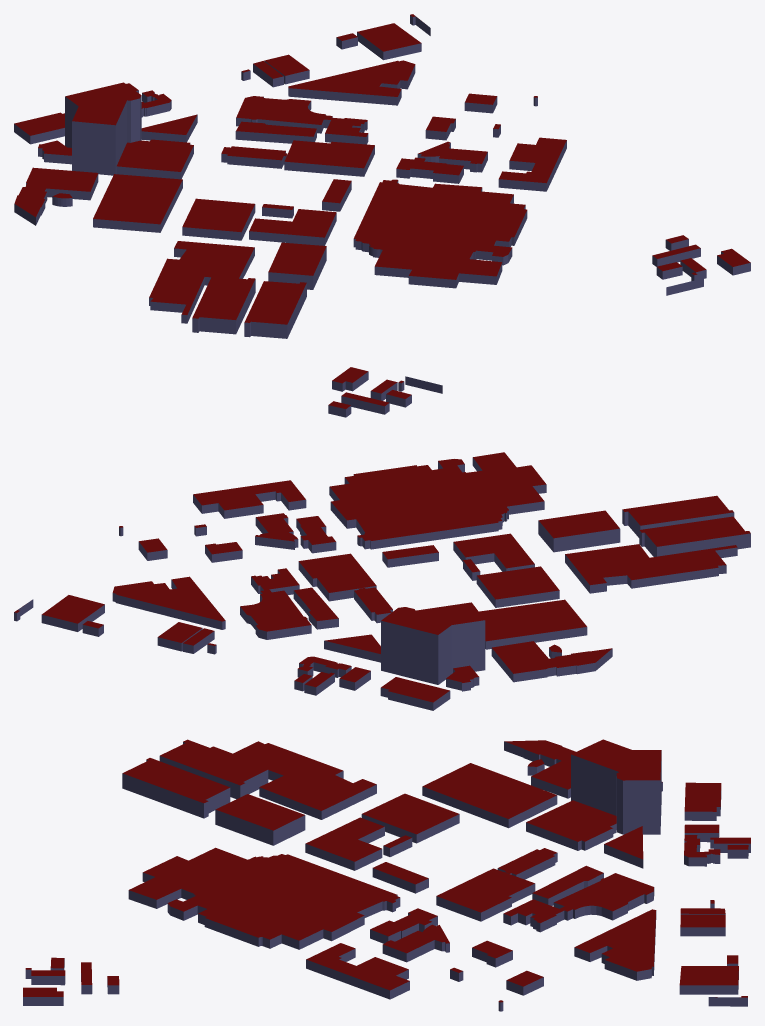
The model's file is tile-buildings(-84.385000,33.750000,-84.380000,33.755000).osm.obj.
The picture shows the model from 3 angles, top to bottom: view 1: azimuth 30°, elevation 25°; view 2: azimuth 150°, elevation 25°; view 3: azimuth 270°, elevation 25°; orthographic projection. The views are drawn at different scales.
Parts seen in each view (by area): view 1: Building Grady Memorial Hospital, Building University Lofts, Building Student Recreation Center, Building M Deck, Building19, Building16, Building N Deck, Building K Deck, Building Dahlberg Hall, Building Loft Parking, Building15, Building2 (+19 smaller); view 2: Building Grady Memorial Hospital, Building University Lofts, Building Student Recreation Center, Building M Deck, Building19, Building16, Building N Deck, Building Dahlberg Hall, Building15, Building S Deck, Building2, Building K Deck (+17 smaller); view 3: Building Grady Memorial Hospital, Building University Lofts, Building Student Recreation Center, Building M Deck, Building16, Building K Deck, Building19, Building15, Building N Deck, Building Loft Parking, Building S Deck, Building2 (+20 smaller).
Boxes of the visible parts, bbox=[...] form: Building Grady Memorial Hospital: bbox=[353, 179, 527, 288]; Building University Lofts: bbox=[65, 82, 141, 175]; Building Student Recreation Center: bbox=[149, 241, 254, 323]; Building M Deck: bbox=[93, 174, 182, 232]; Building19: bbox=[288, 60, 415, 105]; Building16: bbox=[236, 96, 368, 144]; Building N Deck: bbox=[192, 276, 255, 334]; Building K Deck: bbox=[244, 281, 306, 338]; Building Dahlberg Hall: bbox=[14, 167, 98, 225]; Building Loft Parking: bbox=[116, 139, 193, 179]; Building15: bbox=[498, 137, 566, 191]; Building2: bbox=[182, 198, 255, 240]; Building Grady Memorial Hospital: bbox=[329, 452, 546, 549]; Building University Lofts: bbox=[381, 602, 485, 684]; Building Student Recreation Center: bbox=[565, 544, 737, 593]; Building M Deck: bbox=[479, 599, 587, 649]; Building19: bbox=[112, 576, 225, 629]; Building16: bbox=[240, 568, 311, 639]; Building N Deck: bbox=[639, 516, 750, 556]; Building Dahlberg Hall: bbox=[491, 641, 612, 682]; Building15: bbox=[193, 480, 306, 518]; Building S Deck: bbox=[538, 510, 620, 552]; Building2: bbox=[476, 566, 559, 607]; Building K Deck: bbox=[622, 495, 734, 537]; Building Grady Memorial Hospital: bbox=[128, 847, 400, 949]; Building University Lofts: bbox=[571, 739, 661, 834]; Building Student Recreation Center: bbox=[210, 741, 376, 819]; Building M Deck: bbox=[422, 763, 557, 828]; Building16: bbox=[503, 873, 654, 932]; Building K Deck: bbox=[122, 758, 230, 818]; Building19: bbox=[574, 909, 656, 980]; Building15: bbox=[306, 943, 409, 999]; Building N Deck: bbox=[159, 739, 268, 799]; Building Loft Parking: bbox=[526, 800, 616, 850]; Building S Deck: bbox=[215, 794, 305, 845]; Building2: bbox=[361, 793, 459, 843].
Bounding box in the file's own units: 462 × 44.5 × 549.
